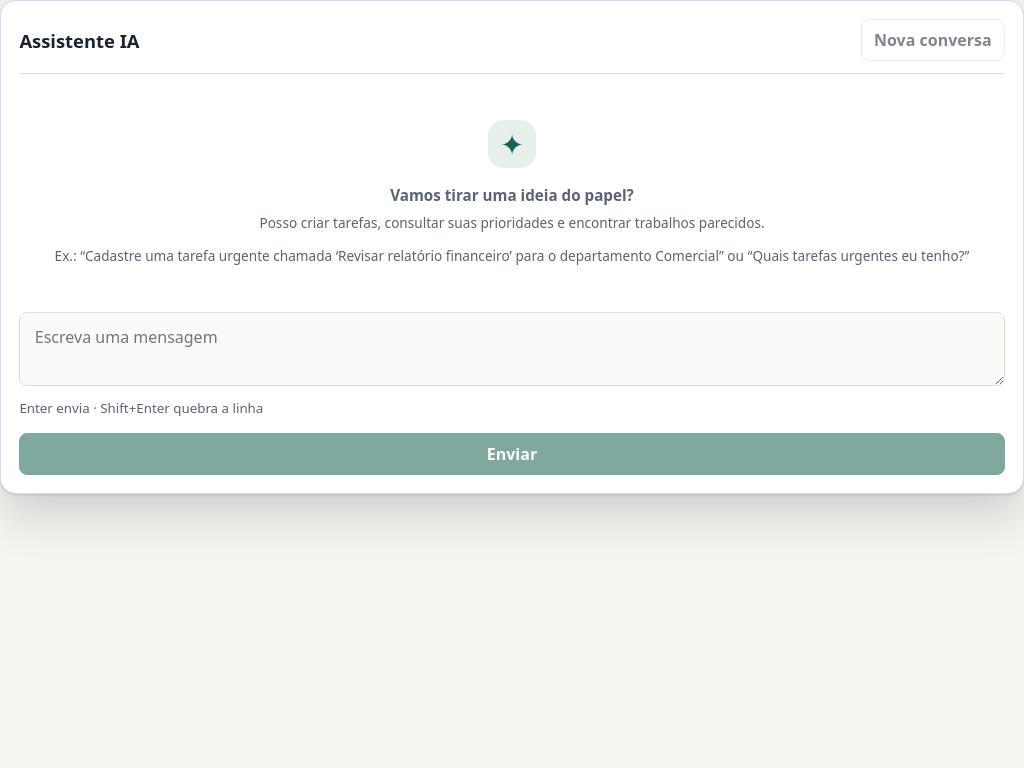
Test case: ChatPanel › streams deltas, then done with created_task calls onTaskCreated
Type "crie uma tarefa" into the text box named "Mensagem para o assistente" at (512, 348), box top-left (19, 312), bottom-right (1005, 386)
Then press Enter
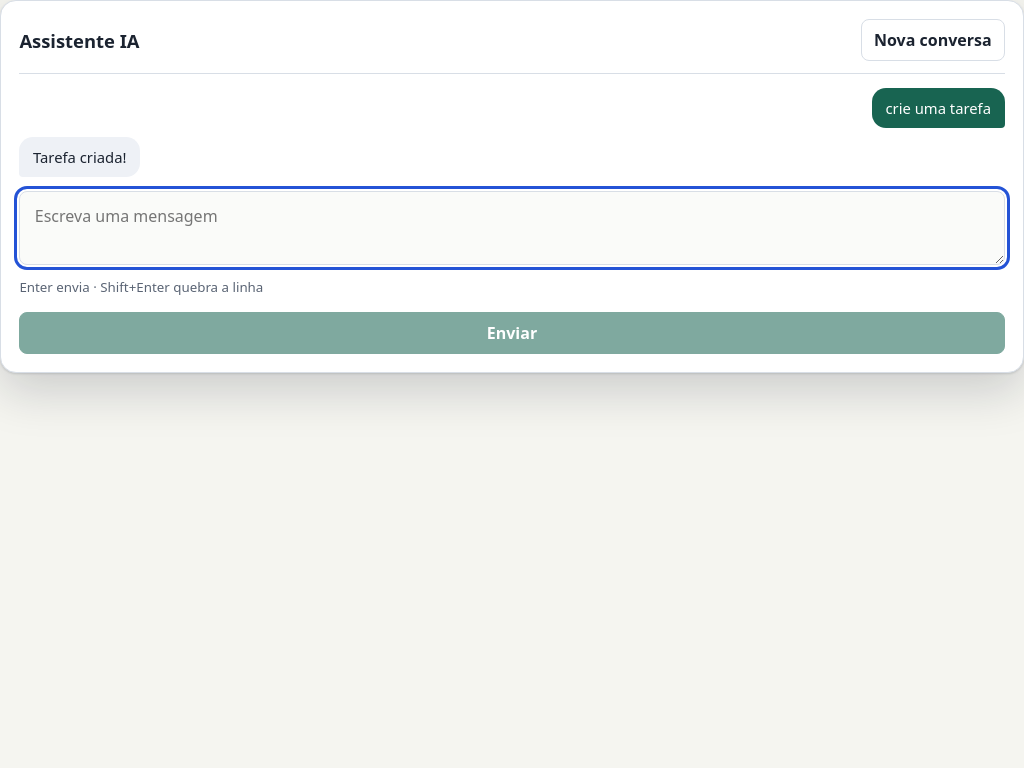
expect the list item "Tarefa criada!" is shown: met, box top-left (19, 137), bottom-right (140, 177)
expect the list item "crie uma tarefa" is shown: met, box top-left (872, 88), bottom-right (1005, 128)
